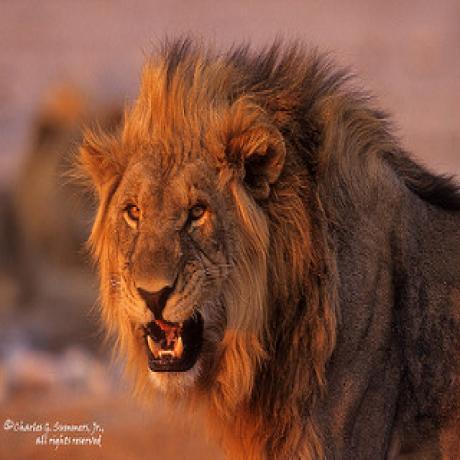Lion: (82, 30, 460, 460)
